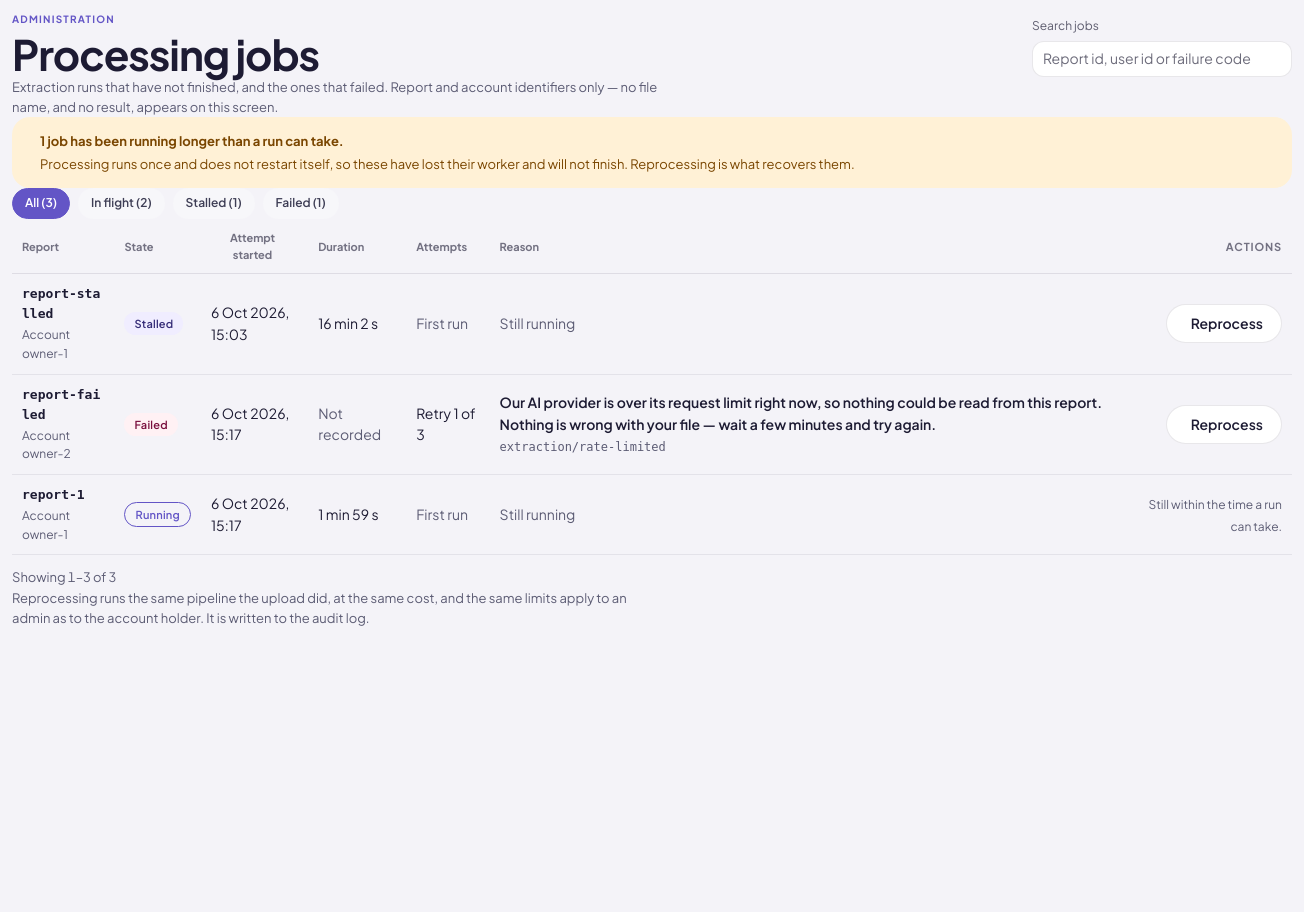
Test case: AdminJobs › filters by state, and keeps the choice in the address bar
The width and height of the screenshot is (1304, 912).
Click the button "Failed (1)".
click(301, 204)  # box [263,188,339,219]
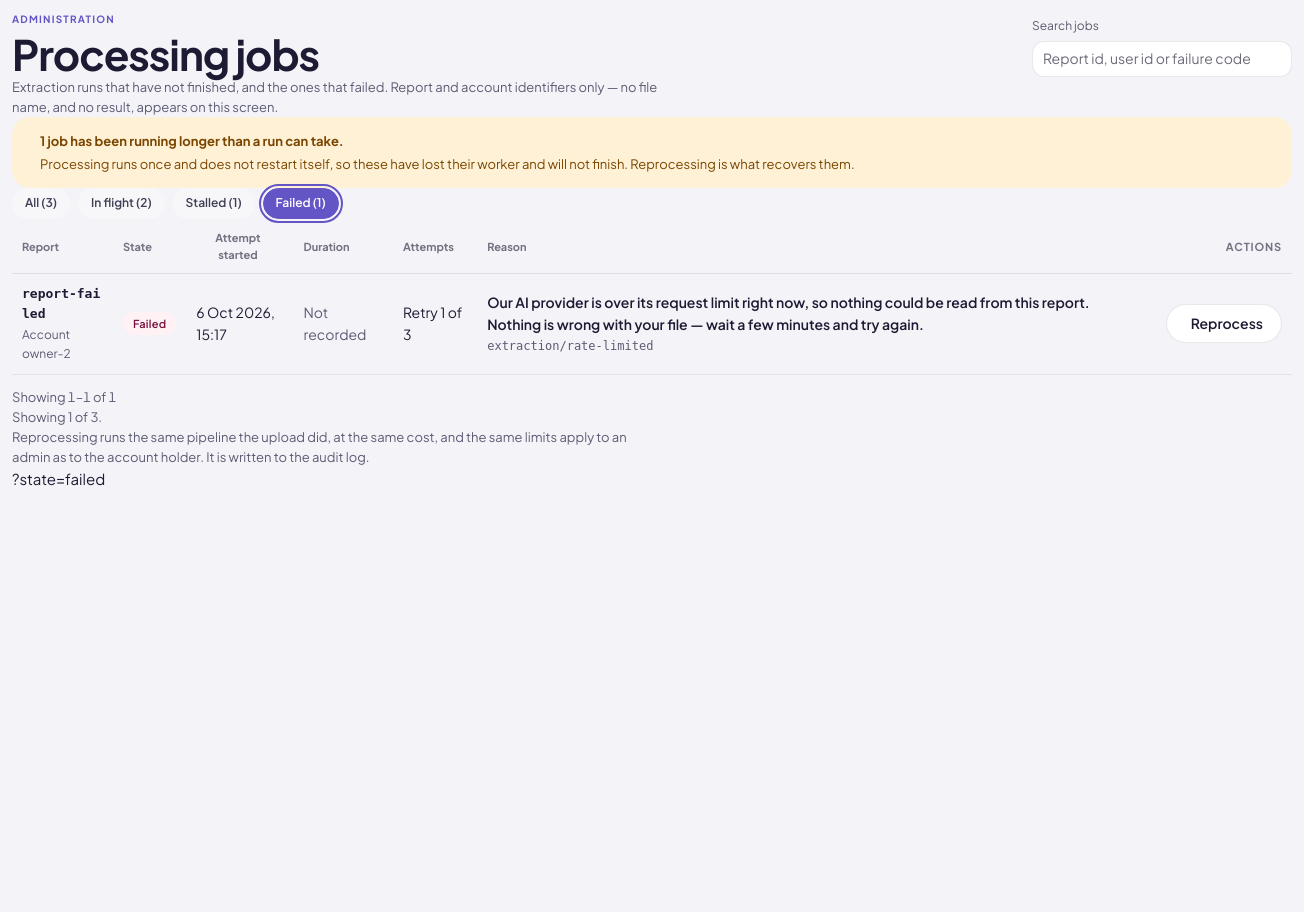
Expected: the text "report-failed" is shown, [22,284,103,324]
Expected: the text with test id "search" reads "?state=failed", [12,469,105,488]
Expected: the text "report-stalled" is gone
